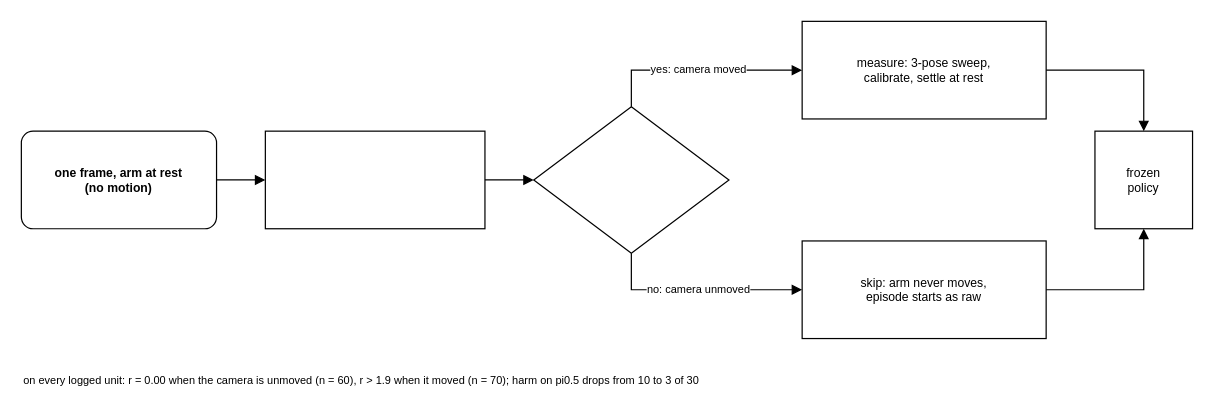
Some shapes in this 1214 by 415 pixel diagram are drawn without their labels. Here are the shapes that lost their labels. From the top down, the centre of each, then its label:
At (x=374, y=179): "render the silhouette the TRAINING camera predicts for the current joints".
At (x=631, y=179): "residual r > 1.5 ?".
